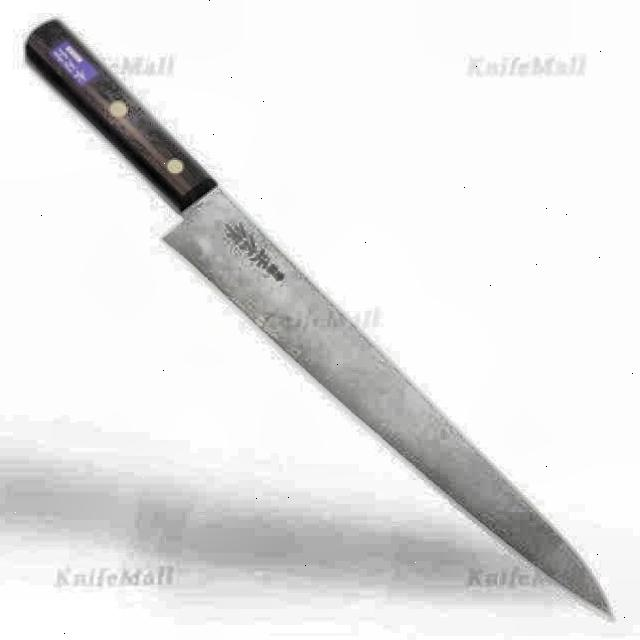knife: (23, 17, 612, 613)
